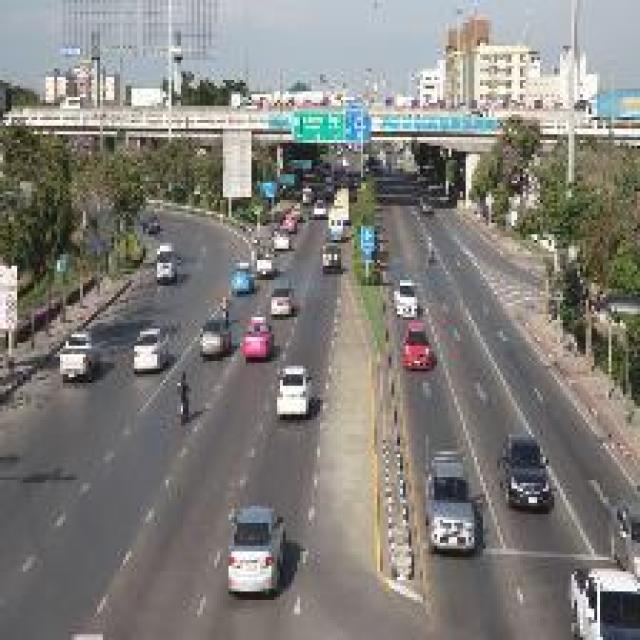other: (388, 315, 438, 371)
